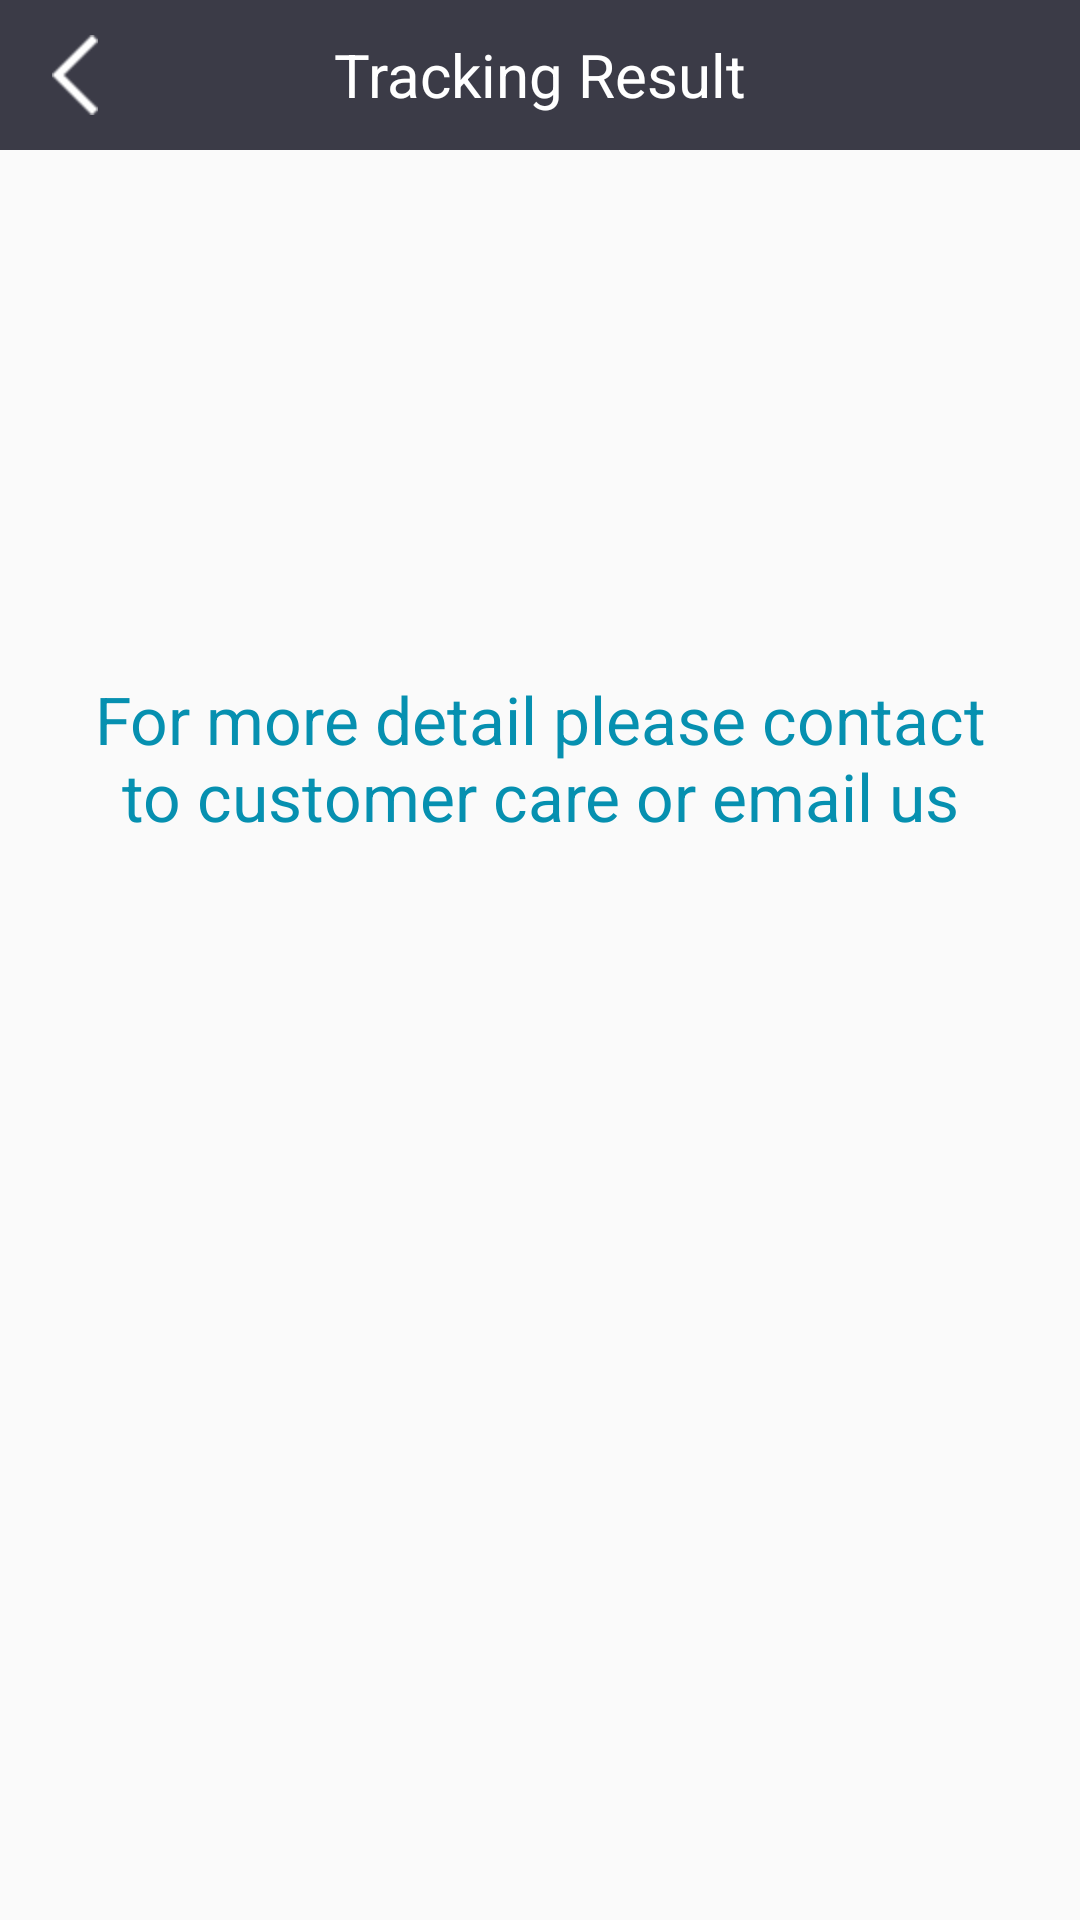

Point at icon controls on the screen. Image size 1080px×1920px, points as (x,y).
back: (75,75)
